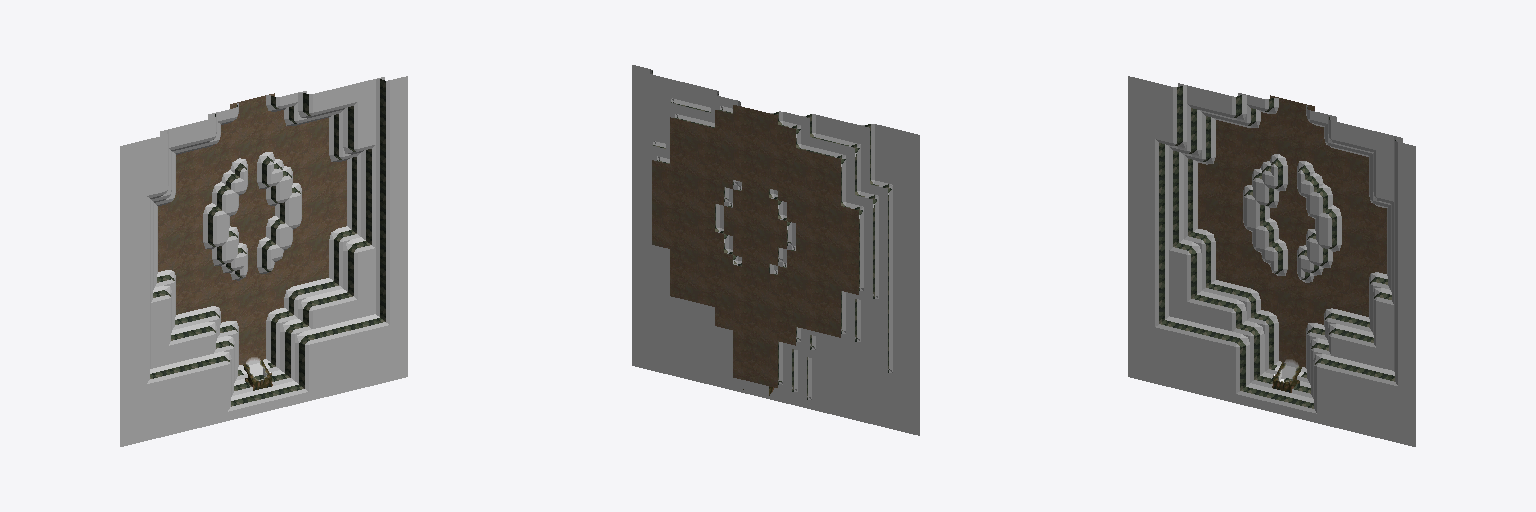
3 views of the same model, side by side, from view 1: azimuth 30°, elevation 25°; view 2: azimuth 150°, elevation 25°; view 3: azimuth 330°, elevation 25° (orthographic).
Visible parts, largest first — view 1: map; view 2: map; view 3: map.
Boxes of the visible parts, x1=… form: map: x1=120, y1=76, x2=407, y2=446; map: x1=632, y1=65, x2=919, y2=435; map: x1=1128, y1=76, x2=1415, y2=446.
Size of the model in its own units: 32 by 32 by 3.
Materials: 9 (5 with a texture image).